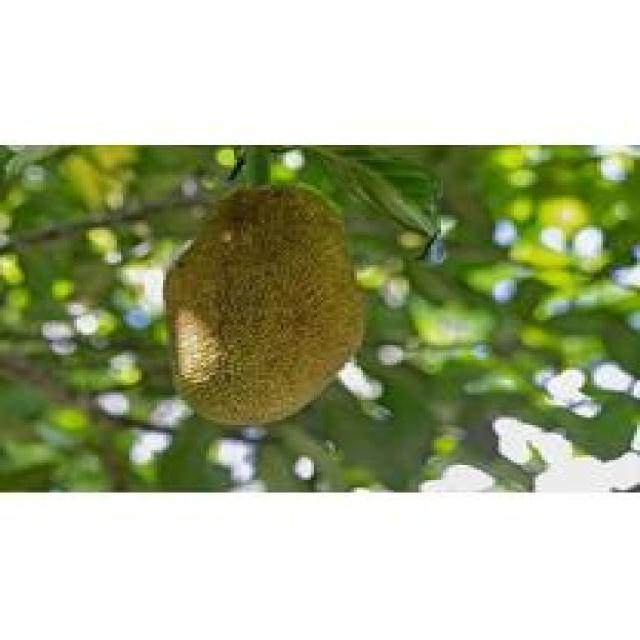Fruit: (151, 178, 378, 442)
